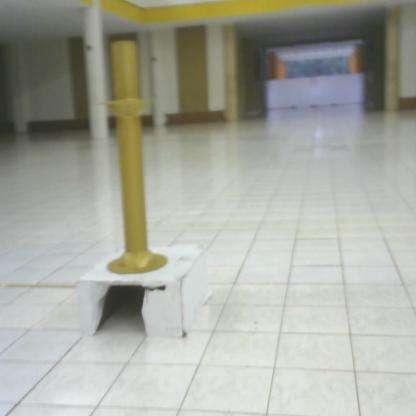pole: (91, 36, 177, 281)
